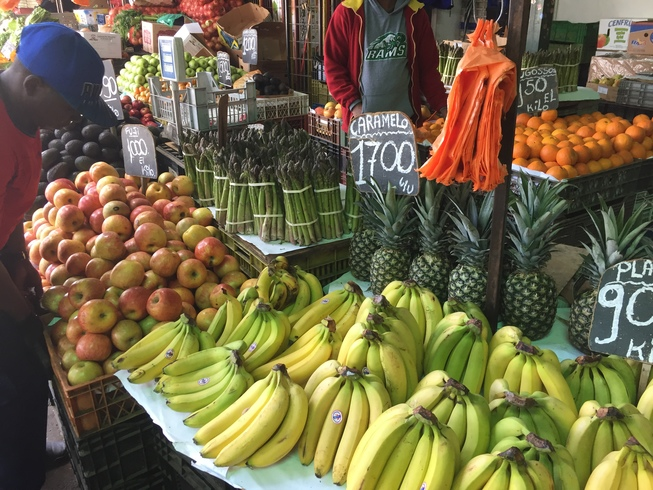precio: (346, 111, 425, 197), (592, 255, 653, 357), (513, 65, 564, 116), (119, 123, 159, 179), (214, 52, 232, 93), (242, 29, 260, 67)
